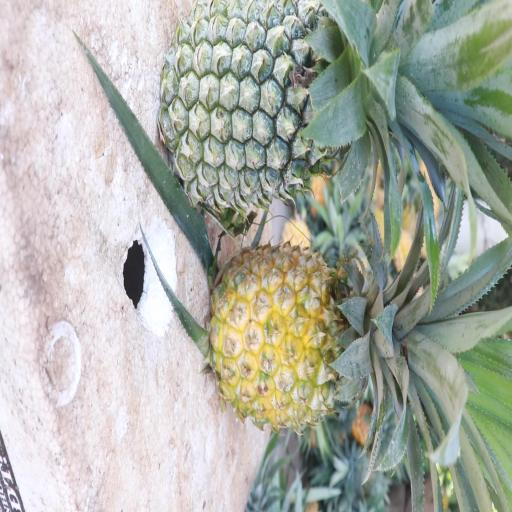Pineapple - v8 v1: (220, 244, 485, 476)
